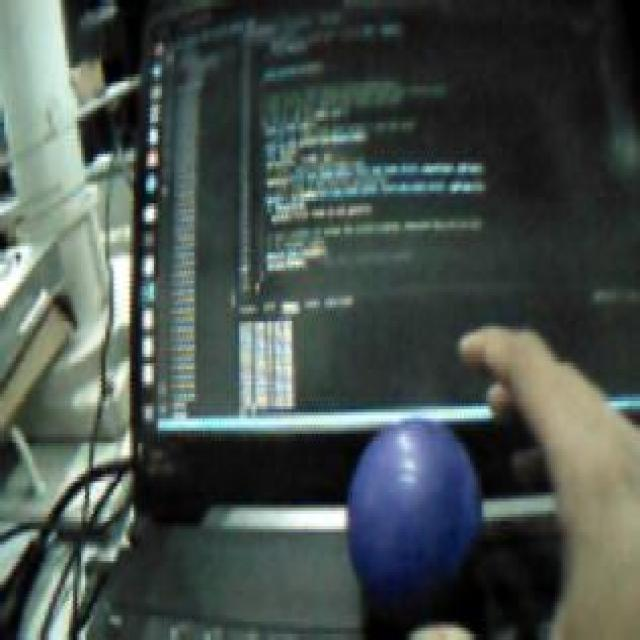BallPurple: (343, 415, 482, 615)
